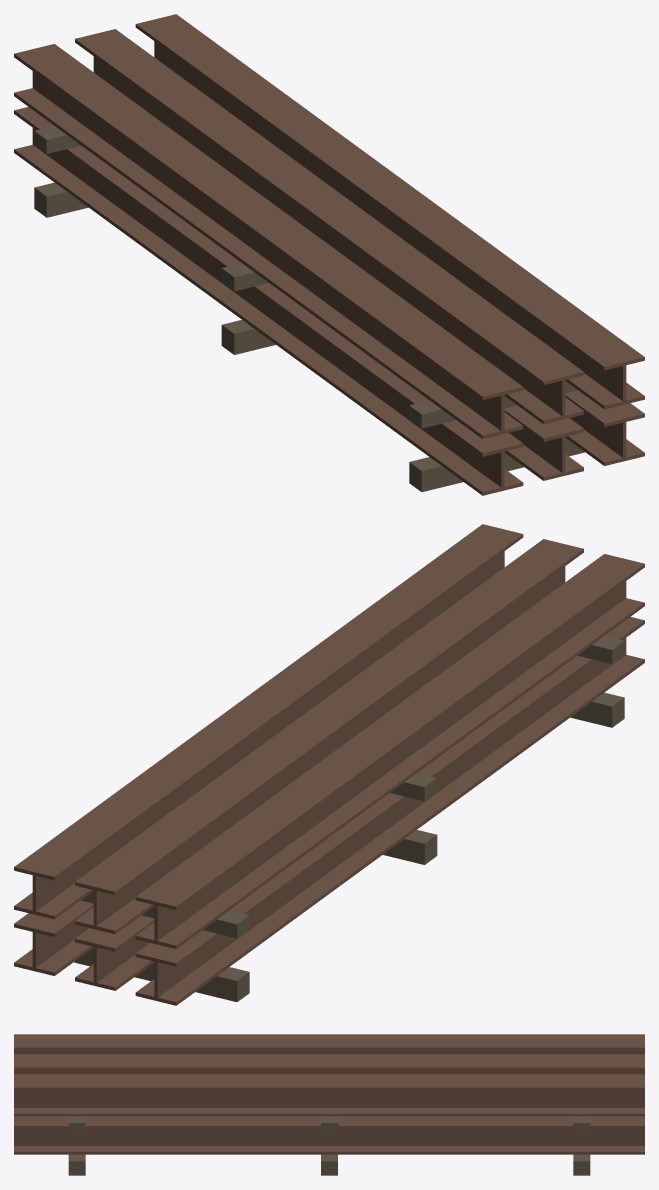
Rendered from scatter5.fbx.
The picture shows the model from 3 angles, top to bottom: view 1: azimuth 30°, elevation 25°; view 2: azimuth 150°, elevation 25°; view 3: azimuth 270°, elevation 25°; orthographic projection. The views are drawn at different scales.
Visible parts, largest first — view 1: a1037/0/scatter5; view 2: a1037/0/scatter5; view 3: a1037/0/scatter5.
Part boxes in pixels (x1,y1,x2,y2): a1037/0/scatter5: (14, 14, 644, 495); a1037/0/scatter5: (14, 524, 644, 1005); a1037/0/scatter5: (14, 1034, 644, 1175).
Bounding box in the file's own units: 1.5 × 0.85 × 6.
